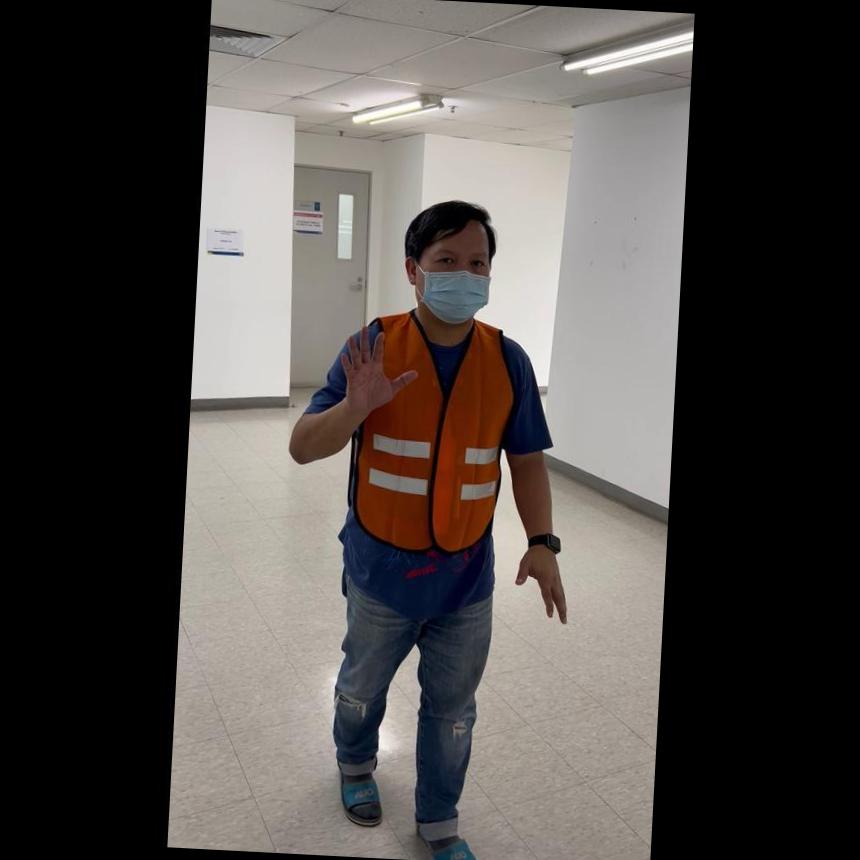No-gloves: (333, 317, 416, 414), (510, 536, 572, 624)
